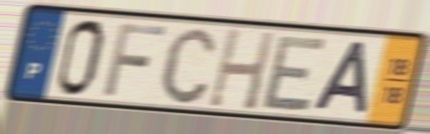0: (54, 17, 109, 98)
A: (309, 39, 370, 118)
C: (158, 24, 220, 107)
E: (258, 34, 330, 113)
F: (100, 21, 169, 100)
H: (205, 25, 278, 113)
